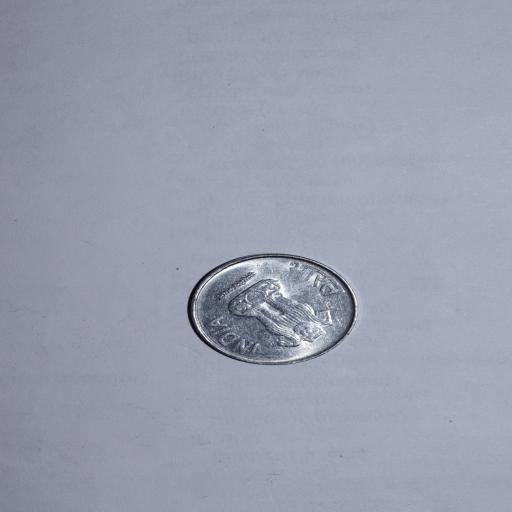rupee1: (181, 251, 361, 366)
